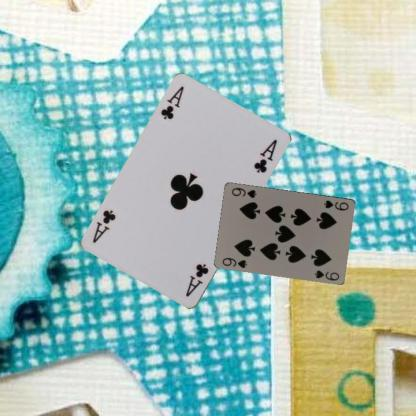9s: (321, 198, 350, 212), (220, 255, 249, 269)
Ac: (183, 261, 210, 299), (158, 84, 185, 121)
